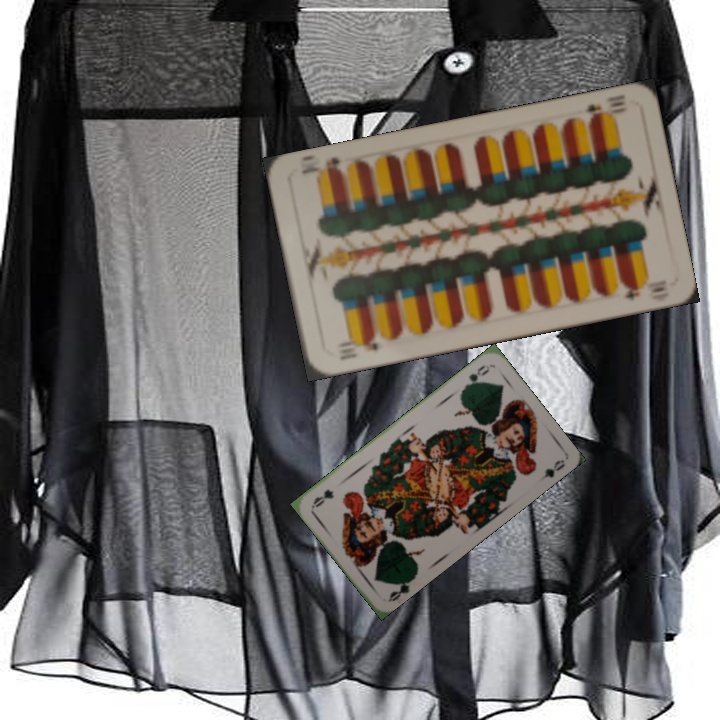E10: (574, 97, 628, 126), (335, 332, 380, 363)
GO: (459, 360, 493, 393), (385, 573, 418, 604)
